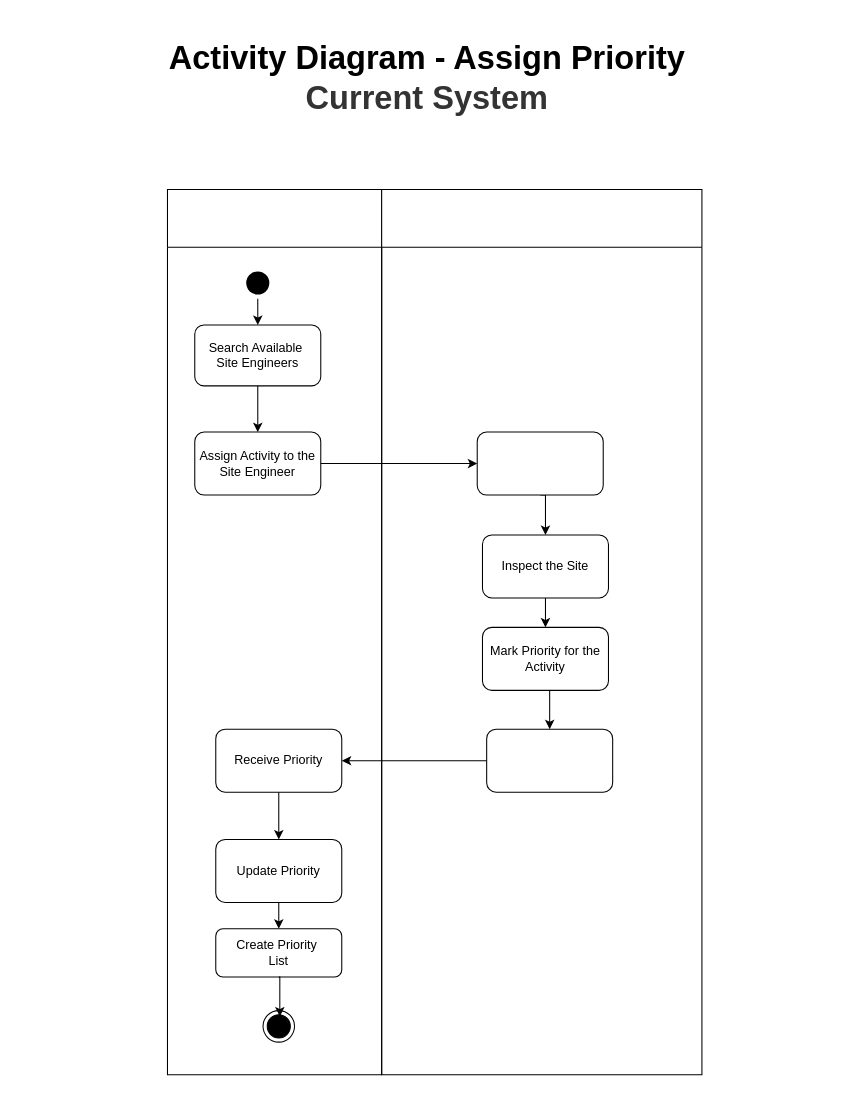
Image size: 854x1093. Some labels were removed from this diagram. The shapes that lost their labels are listed below. From the top down, each one's box as (x1, y1, x2, y2) in pixels, then its label:
(476, 431, 603, 495): Receive the Assigned Activity
(166, 188, 382, 1075): Development Officer
(381, 188, 702, 1075): Site Engineer
(486, 728, 613, 792): Inform Priority
